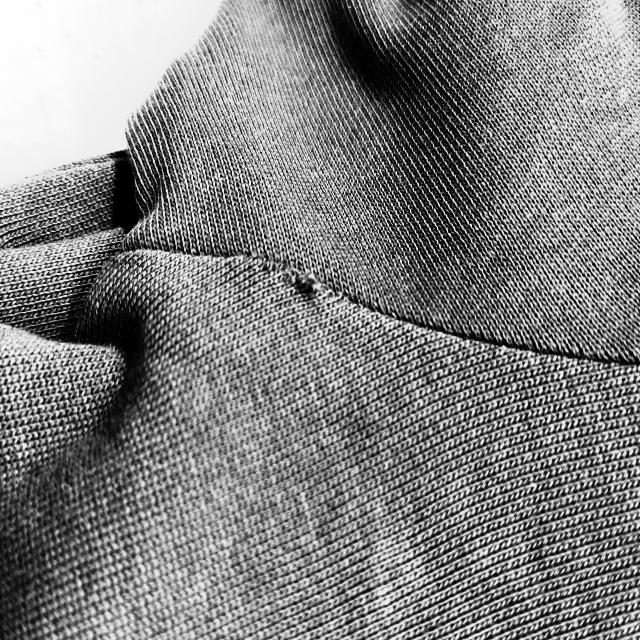Sewing_error: (267, 255, 333, 311)
